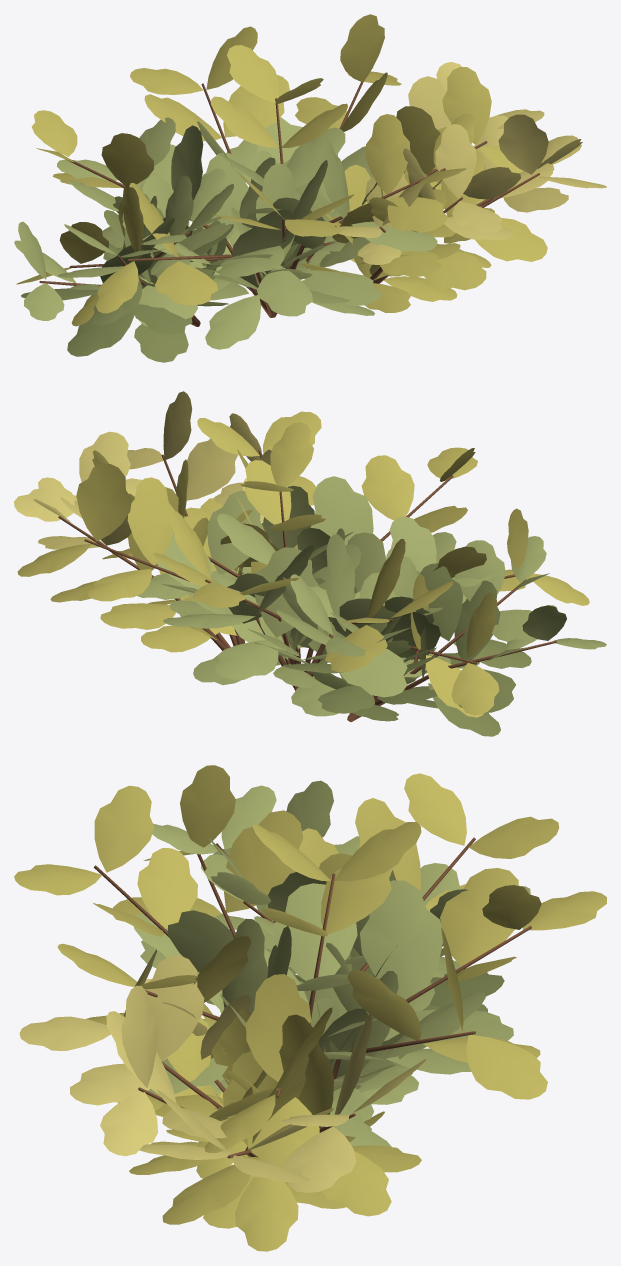
Rendered from shrub-a.glb.
3 renders of one model, top to bottom at view 1: azimuth 30°, elevation 25°; view 2: azimuth 150°, elevation 25°; view 3: azimuth 270°, elevation 25°, orthographic. The views are drawn at different scales.
Parts seen in each view (by area): view 1: shrub-a-foliage, shrub-a-stems; view 2: shrub-a-foliage, shrub-a-stems; view 3: shrub-a-foliage, shrub-a-stems.
Boxes of the visible parts, x1,y1,x2,y2 form: shrub-a-foliage: (14, 14, 606, 362); shrub-a-stems: (39, 82, 539, 326); shrub-a-foliage: (14, 391, 606, 736); shrub-a-stems: (58, 450, 556, 721); shrub-a-foliage: (14, 765, 606, 1251); shrub-a-stems: (94, 837, 531, 1158).
Bounding box in the file's own units: 1.5 × 0.64 × 1.02.
